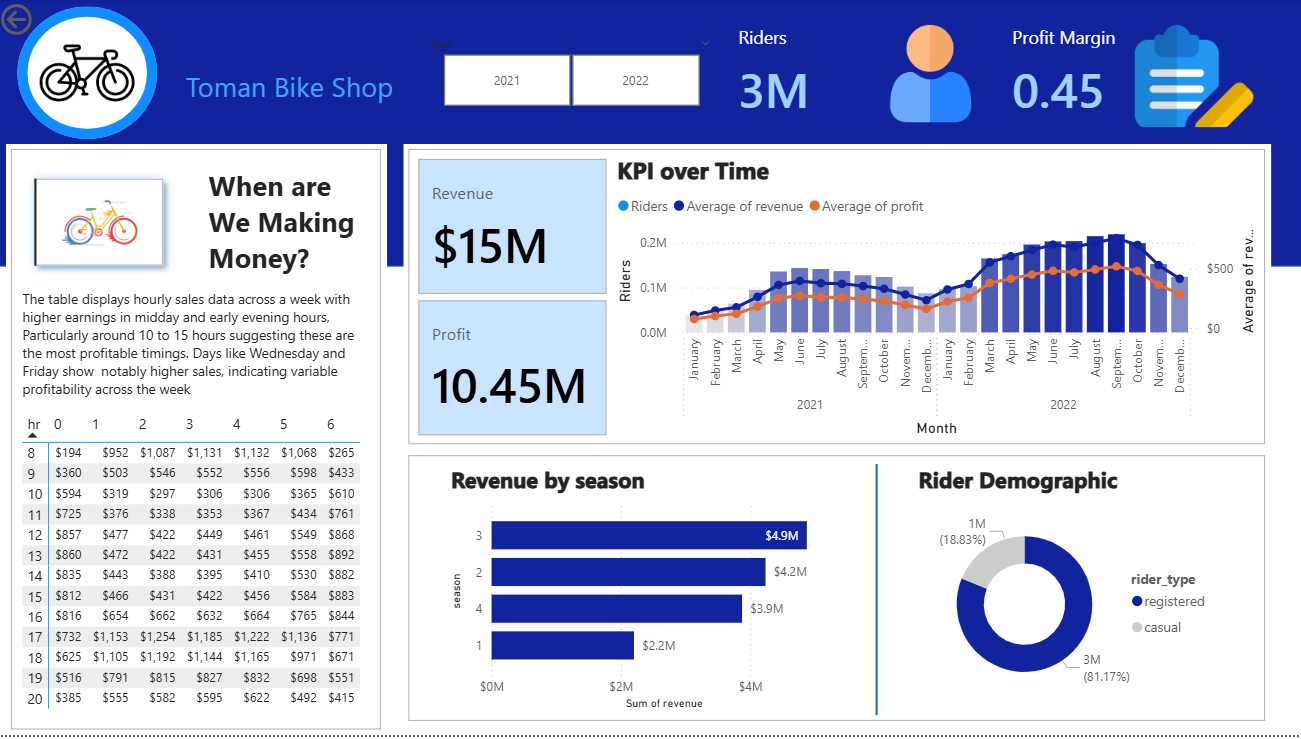

What the dashboard file says about the page in this screenshot:
{"tool":"powerbi","page":{"name":"Page 1","canvas":[1280,720],"ordinal":0},"visuals":[{"type":"shape","box":[0,0,1280.3,261.7],"z":0},{"type":"cardVisual","fields":{"Data":["Min(Query1.rider_type)"]},"box":[398.6,441.4,848.6,270.2],"z":1000},{"type":"cardVisual","fields":{"Data":["Min(Query1.rider_type)"]},"box":[398.6,141.8,848.6,299.6],"z":2000},{"type":"cardVisual","fields":{"Data":["Min(Query1.rider_type)"]},"box":[9.8,141.8,373,578.4],"z":3000},{"type":"actionButton","box":[0,0,100,40],"z":4000},{"type":"pivotTable","fields":{"Values":["Avg(Query1.revenue)"],"Columns":["Query1.weekday"],"Rows":["Query1.hr"]},"box":[20.6,399.3,343.1,300.5],"z":5000},{"type":"cardVisual","fields":{"Data":["Min(Query1.rider_type)"]},"box":[20.8,159,160.2,119.8],"z":6000},{"type":"textbox","box":[203,159,161.4,119.8],"z":7000},{"type":"textbox","box":[20.8,278.8,353.4,121.1],"z":8000},{"type":"lineClusteredColumnComboChart","title":"KPI over Time","fields":{"Category":["Query1.dteday.Variation.Date Hierarchy.Year","Query1.dteday.Variation.Date Hierarchy.Month","Query1.dteday.Variation.Date Hierarchy.Day"],"Y":["Sum(Query1.riders)"],"Y2":["Avg(Query1.revenue)","Avg(Query1.profit)"]},"box":[602.9,151.6,634.7,281.3],"z":9000},{"type":"clusteredBarChart","title":"Revenue by season","fields":{"Category":["Query1.season"],"Y":["Sum(Query1.revenue)"]},"box":[440.2,454.9,399.9,245.8],"z":10000},{"type":"donutChart","title":"Rider Demographic","fields":{"Category":["Query1.rider_type"],"Y":["Sum(Query1.riders)"]},"box":[897.6,454.9,299.6,245.8],"z":11000},{"type":"shape","box":[711.7,454.9,299.6,245.8],"z":12000},{"type":"cardVisual","title":"KPI over Time","fields":{"Data":["Sum(Query1.revenue)","Sum(Query1.profit)"]},"box":[408.4,151.6,194.4,281.3],"z":13000},{"type":"cardVisual","fields":{"Data":["Sum(Query1.riders)","Query1.Profit Margin"]},"box":[709.2,8.6,538,122.3],"z":14000},{"type":"shape","box":[20.8,7.3,137,129.6],"z":15000},{"type":"image","box":[37.9,19.6,102.7,105.2],"z":16000},{"type":"textbox","box":[181,62.4,227.4,47.7],"z":17000},{"type":"slicer","fields":{"Values":["Query1.Year"]},"box":[412.1,33,299.6,78.3],"z":18000}]}

Visuals, with their boxes in screenshot pixels (x1, y1, x2, y2), scaled from the page's 1280x720 canvas onto the 1301x739 screenshot:
shape: crop(0, 0, 1300, 269)
cardVisual - Min(Query1.rider_type): crop(405, 453, 1268, 730)
cardVisual - Min(Query1.rider_type): crop(405, 146, 1268, 453)
cardVisual - Min(Query1.rider_type): crop(10, 146, 389, 738)
actionButton: crop(0, 0, 102, 41)
pivotTable - Avg(Query1.revenue) x Query1.weekday: crop(21, 410, 370, 718)
cardVisual - Min(Query1.rider_type): crop(21, 163, 184, 286)
textbox: crop(206, 163, 370, 286)
textbox: crop(21, 286, 380, 410)
"KPI over Time" lineClusteredColumnComboChart: crop(613, 156, 1258, 444)
"Revenue by season" clusteredBarChart: crop(447, 467, 854, 719)
"Rider Demographic" donutChart: crop(912, 467, 1217, 719)
shape: crop(723, 467, 1028, 719)
"KPI over Time" cardVisual: crop(415, 156, 613, 444)
cardVisual - Sum(Query1.riders) x Query1.Profit Margin: crop(721, 9, 1268, 134)
shape: crop(21, 7, 160, 141)
image: crop(39, 20, 143, 128)
textbox: crop(184, 64, 415, 113)
slicer - Query1.Year: crop(419, 34, 723, 114)
